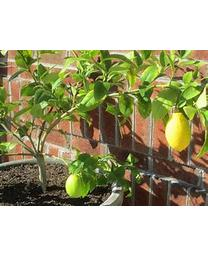lemon: (166, 114, 193, 150), (66, 173, 90, 198)
